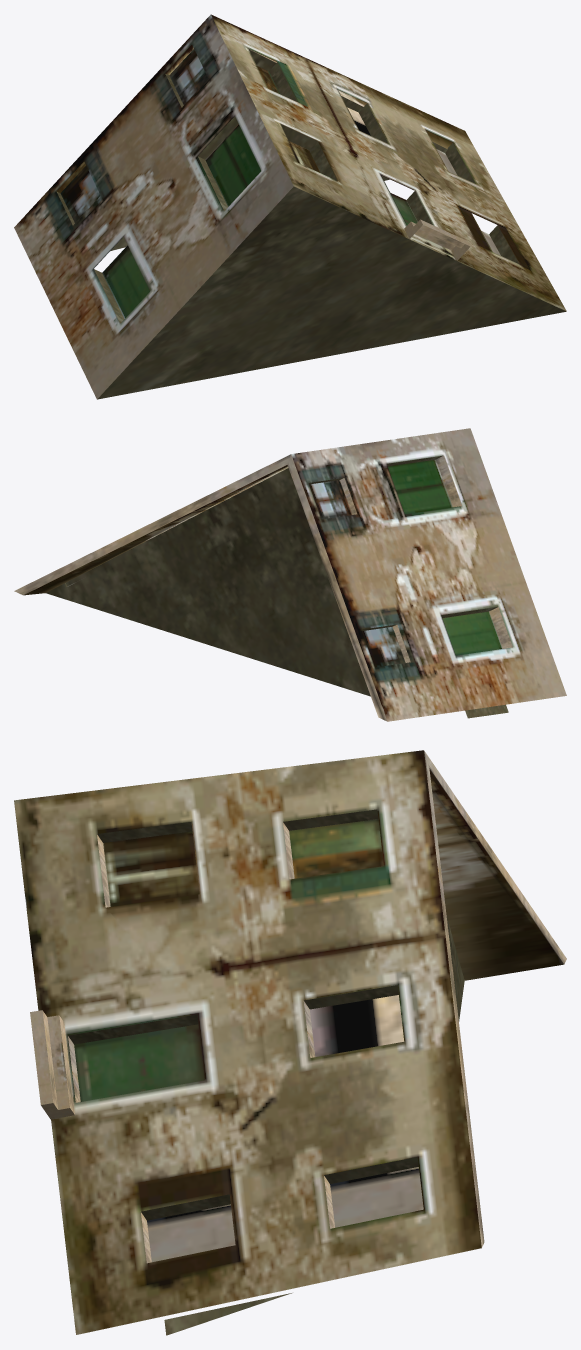
File: Civilian - Residential Building - Mogadishu House 01 - CBMogdis08_df.glb
3 renders of one model, top to bottom at view 1: azimuth 30°, elevation 25°; view 2: azimuth 150°, elevation 25°; view 3: azimuth 270°, elevation 25°, orthographic. The views are drawn at different scales.
Parts seen in each view (by area): view 1: CBMOGDIS08_DF; view 2: CBMOGDIS08_DF; view 3: CBMOGDIS08_DF.
Boxes of the visible parts, left/top/right/bottom form: CBMOGDIS08_DF: left=14, top=14, right=566, bottom=399; CBMOGDIS08_DF: left=14, top=428, right=566, bottom=721; CBMOGDIS08_DF: left=14, top=750, right=566, bottom=1335.
Bounding box in the file's own units: 66.44 × 36.89 × 44.4.
1 material, 1 textured.
